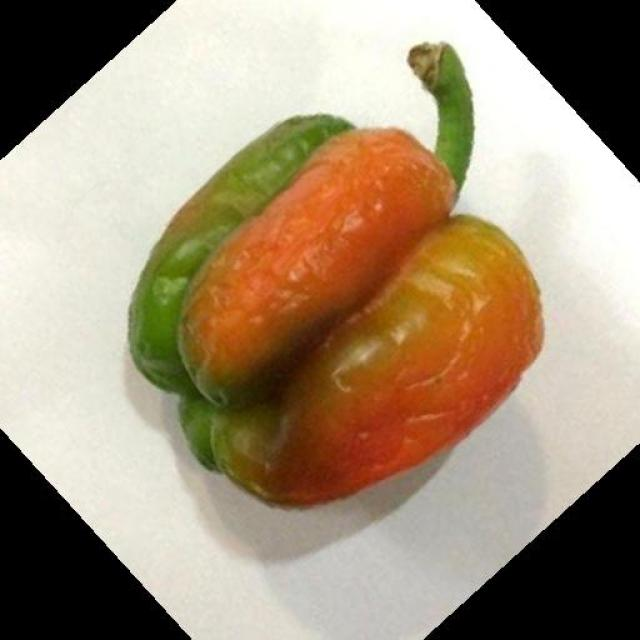Stale_Capsicum: (140, 134, 542, 504)
